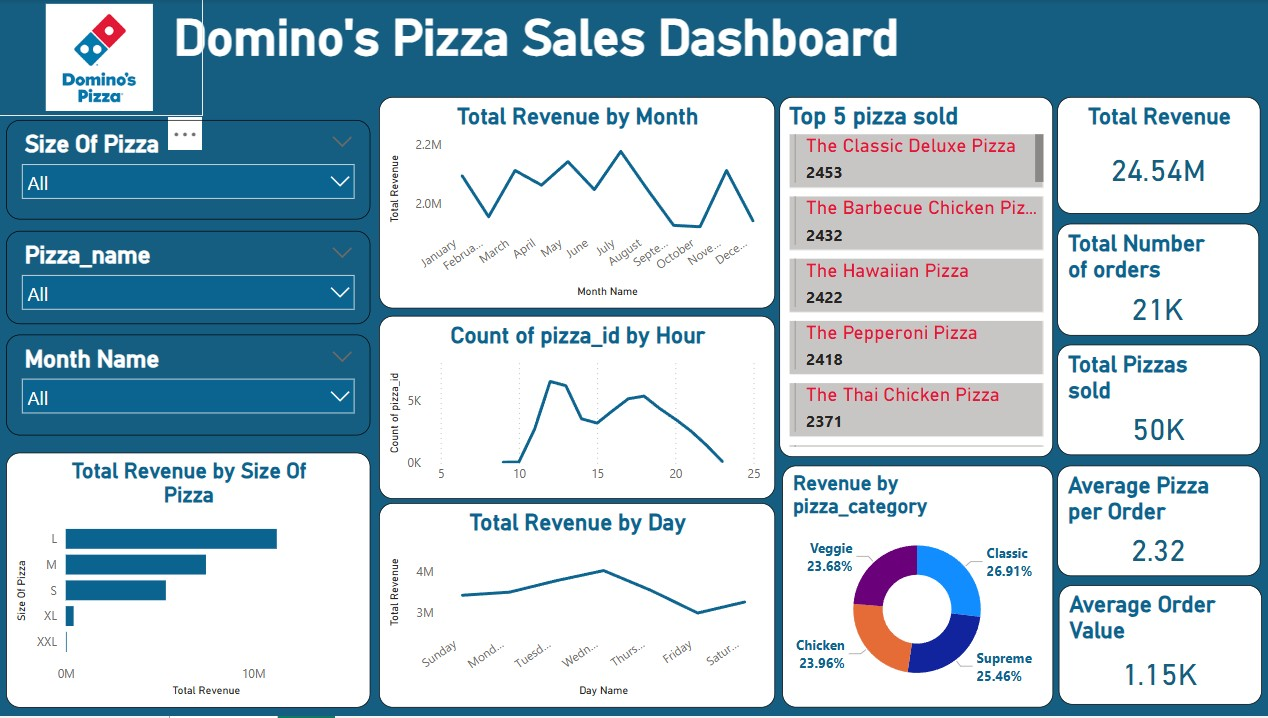

The dashboard page shown, as its layout file describes it:
{"tool":"powerbi","page":{"name":"Page 1","canvas":[1280,720],"ordinal":0},"visuals":[{"type":"textbox","box":[112,4,1154,100],"z":0},{"type":"card","title":"Total Revenue","fields":{"Values":["Pizza Measures.Total Revenue"]},"box":[1066.2,98.4,204,117.2],"z":1000},{"type":"card","title":"Total Number of orders","fields":{"Values":["Pizza Measures.Total orders"]},"box":[1066.2,225.7,202.5,112.8],"z":2000},{"type":"card","title":"Average Order Value","fields":{"Values":["Pizza Measures.Average Order Value"]},"box":[1067.6,588.8,204,120.1],"z":3000},{"type":"card","title":"Total Pizzas sold","fields":{"Values":["Pizza Measures.Total Pizzas sold"]},"box":[1066.2,347.2,204,111.4],"z":4000},{"type":"card","title":"Average Pizza per Order","fields":{"Values":["Pizza Measures.Average Pizza per Order"]},"box":[1066.2,468.7,204,111.4],"z":5000},{"type":"lineChart","title":"Total Revenue by Month ","fields":{"Category":["Dominos.Month Name"],"Y":["Pizza Measures.Total Revenue"]},"box":[384.8,98.4,397.8,212.6],"z":6000},{"type":"multiRowCard","title":"Top 5 pizza sold","fields":{"Values":["Dominos.pizza_name","Sum(Dominos.quantity)"]},"box":[787,98.4,274.9,361.7],"z":7000},{"type":"donutChart","title":"Revenue by pizza_category","fields":{"Y":["Pizza Measures.Total Revenue"],"Category":["Dominos.pizza_category"]},"box":[789.9,468.7,272,243],"z":8000},{"type":"lineChart","fields":{"Category":["Dominos.Hour"],"Y":["CountNonNull(Dominos.pizza_id)"]},"box":[384.8,318.3,397.8,183.7],"z":9000},{"type":"lineChart","title":"Total Revenue by Day","fields":{"Category":["Dominos.Day Name"],"Y":["Pizza Measures.Total Revenue"]},"box":[384.8,506.3,397.8,205.4],"z":10000},{"type":"barChart","fields":{"Category":["Dominos.Size Of Pizza"],"Y":["Pizza Measures.Total Revenue"]},"box":[10.1,455.7,366,256.1],"z":11000},{"type":"image","box":[0,0,208.3,117.2],"z":12000},{"type":"slicer","fields":{"Values":["Dominos.Size Of Pizza"]},"box":[10,122,366,100],"z":13000},{"type":"slicer","fields":{"Values":["Dominos.pizza_name"]},"box":[10.1,232.9,366,94],"z":14000},{"type":"slicer","fields":{"Values":["Dominos.Month Name"]},"box":[10.1,337.1,366,101.3],"z":15000}]}

Visuals, with their boxes in screenshot pixels (x1, y1, x2, y2), scaled from the page's 1280x720 canvas onto the 1268x718 screenshot:
textbox: region(111, 4, 1254, 104)
"Total Revenue" card: region(1056, 98, 1258, 215)
"Total Number of orders" card: region(1056, 225, 1257, 338)
"Average Order Value" card: region(1058, 587, 1260, 707)
"Total Pizzas sold" card: region(1056, 346, 1258, 457)
"Average Pizza per Order" card: region(1056, 467, 1258, 578)
"Total Revenue by Month " lineChart: region(381, 98, 775, 310)
"Top 5 pizza sold" multiRowCard: region(780, 98, 1052, 459)
"Revenue by pizza_category" donutChart: region(782, 467, 1052, 710)
lineChart - Dominos.Hour x CountNonNull(Dominos.pizza_id): region(381, 317, 775, 501)
"Total Revenue by Day" lineChart: region(381, 505, 775, 710)
barChart - Dominos.Size Of Pizza x Pizza Measures.Total Revenue: region(10, 454, 373, 710)
image: region(0, 0, 206, 117)
slicer - Dominos.Size Of Pizza: region(10, 122, 372, 221)
slicer - Dominos.pizza_name: region(10, 232, 373, 326)
slicer - Dominos.Month Name: region(10, 336, 373, 437)
